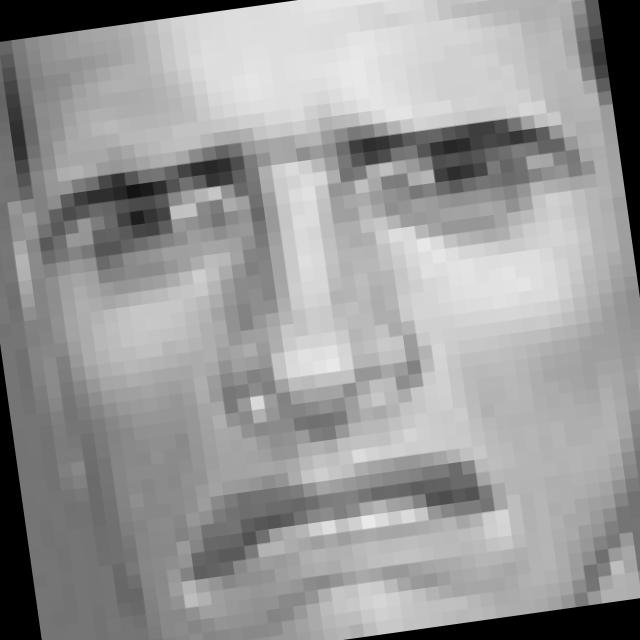disgust: (35, 81, 640, 640)
